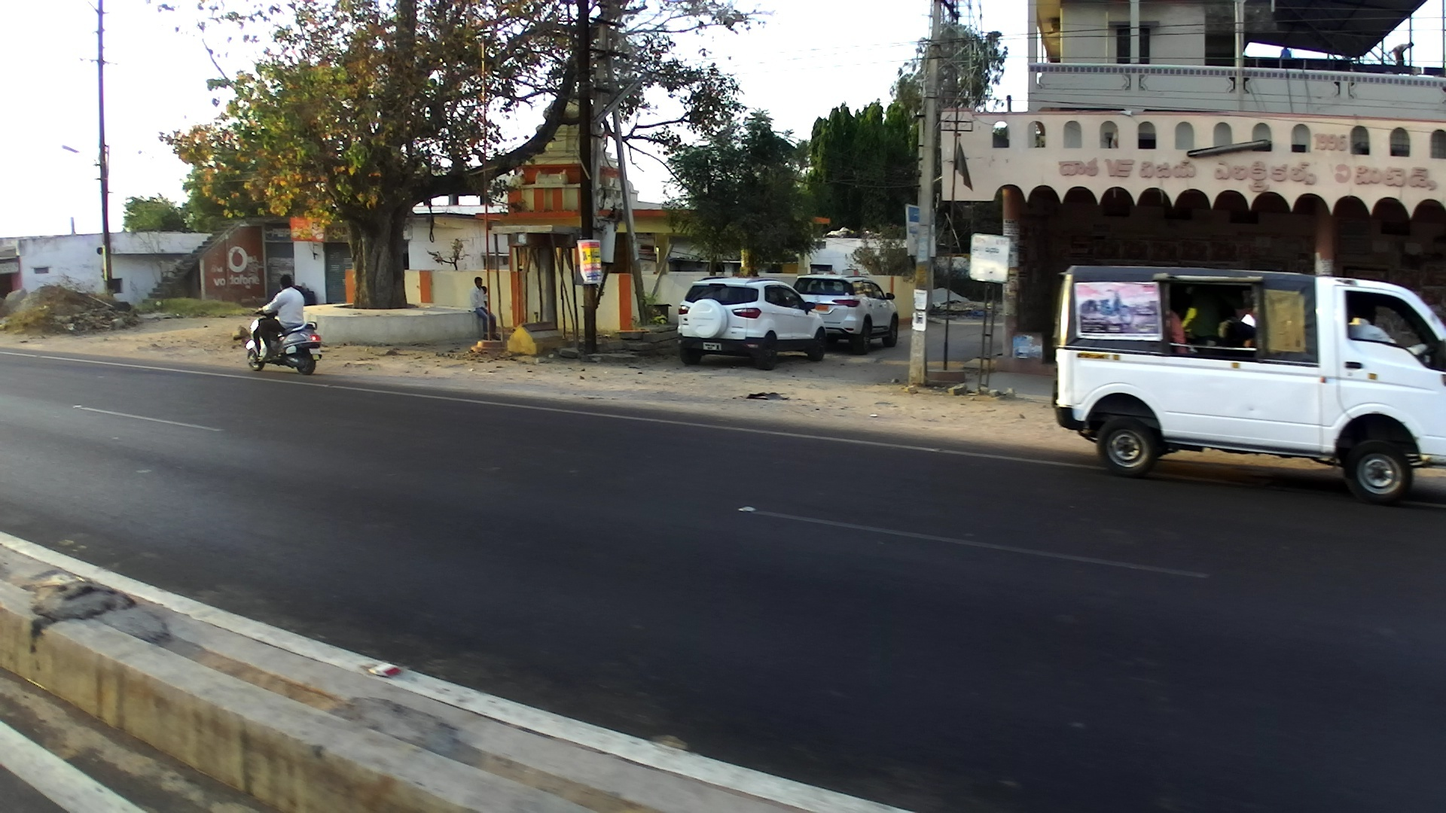car: (1049, 260, 1446, 498), (671, 274, 829, 370), (792, 275, 899, 350)
motorcycle: (240, 306, 322, 375)
person: (467, 277, 498, 340)
rider: (253, 276, 307, 362)
